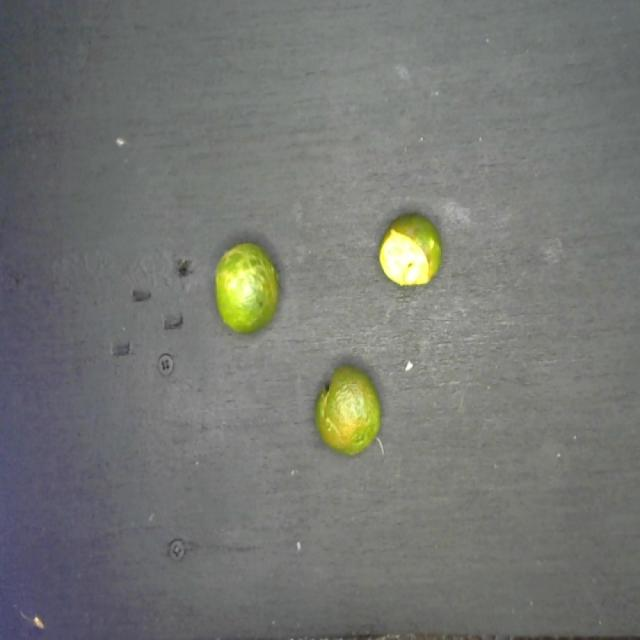biodegradable: (203, 198, 448, 474)
